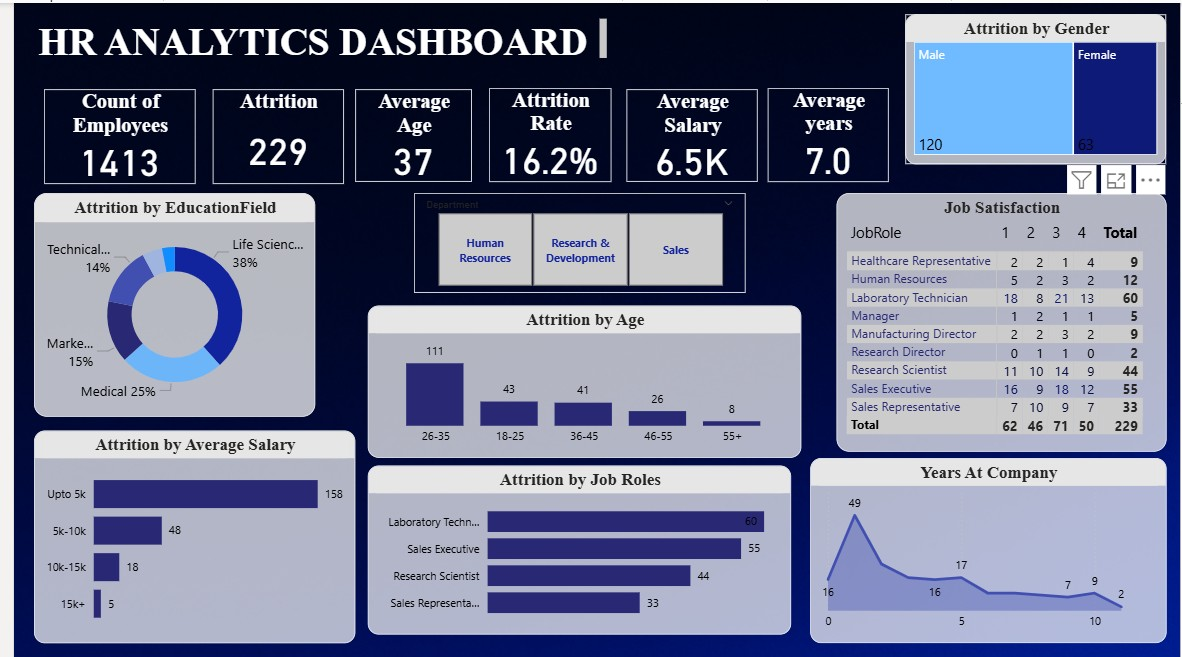

This screenshot's page, from the dashboard's own definition file:
{"tool":"powerbi","page":{"name":"Page 1","canvas":[1280,720],"ordinal":0},"visuals":[{"type":"card","title":"Count of Employees","fields":{"Values":["CountNonNull(HR_Analytics (1).EmpID)"]},"box":[32.9,94.7,166,104.3],"z":0},{"type":"card","title":"Attrition","fields":{"Values":["Sum(HR_Analytics (1).AttritionCount)"]},"box":[218.2,94.7,144.1,104.3],"z":1000},{"type":"card","title":"Average Salary ","fields":{"Values":["Avg(HR_Analytics (1).MonthlyIncome)"]},"box":[672.4,94.7,144.1,101.5],"z":2000},{"type":"card","title":"Average Age ","fields":{"Values":["Avg(HR_Analytics (1).Age)"]},"box":[374.6,94.7,127.6,101.5],"z":3000},{"type":"card","title":"Average years ","fields":{"Values":["Avg(HR_Analytics (1).YearsAtCompany)"]},"box":[827.4,93.3,133.1,102.9],"z":4000},{"type":"card","title":"Attrition Rate","fields":{"Values":["HRAnalytics.AttritionRate"]},"box":[521.4,93.3,134.5,102.9],"z":5000},{"type":"donutChart","title":" Attrition by EducationField","fields":{"Category":["HRAnalytics.EducationField"],"Y":["Sum(HRAnalytics.AttritionCount)"]},"box":[588.7,223.7,290.9,220.9],"z":6000},{"type":"columnChart","title":" Attrition by Age","fields":{"Category":["HRAnalytics.AgeGroup"],"Y":["Sum(HRAnalytics.AttritionCount)"]},"box":[259.3,223.7,318.4,220.9],"z":7000},{"type":"pivotTable","title":"Job Satisfaction","fields":{"Rows":["HRAnalytics.JobRole"],"Columns":["HRAnalytics.JobSatisfaction"],"Values":["Sum(HRAnalytics.AttritionCount)"]},"box":[904.3,209.9,360.9,249.7],"z":8000},{"type":"clusteredBarChart","title":" Attrition by Job Roles","fields":{"Category":["HRAnalytics.JobRole"],"Y":["Sum(HRAnalytics.AttritionCount)"]},"box":[338.9,478.9,333.4,215.4],"z":9000},{"type":"clusteredBarChart","title":" Attrition by Average Salary","fields":{"Category":["HRAnalytics.SalarySlab"],"Y":["Sum(HRAnalytics.AttritionCount)"]},"box":[22,478.9,299.1,215.4],"z":10000},{"type":"areaChart","title":" Years At Company","fields":{"Category":["HRAnalytics.YearsAtCompany"],"Y":["Sum(HRAnalytics.AttritionCount)"]},"box":[12.3,223.7,236,215.4],"z":11000},{"type":"treemap","title":" Attrition by Gender","fields":{"Group":["HRAnalytics.Gender"],"Values":["Sum(HRAnalytics.AttritionCount)"]},"box":[978.4,12.3,286.8,164.7],"z":12000},{"type":"textbox","box":[22,12.3,634,56.3],"z":14000},{"type":"slicer","fields":{"Values":["HRAnalytics.Department"]},"box":[676.5,477.5,236,109.8],"z":14001},{"type":"textbox","box":[682,602.4,226.4,61.7],"z":14002},{"type":"textbox","box":[922.1,478.9,343.1,194.9],"z":14003}]}

Visuals, with their boxes in screenshot pixels (x1, y1, x2, y2), scaled from the page's 1280x720 canvas onto the 1182x657 screenshot:
"Count of Employees" card: detection(30, 86, 184, 182)
"Attrition" card: detection(201, 86, 335, 182)
"Average Salary " card: detection(621, 86, 754, 179)
"Average Age " card: detection(346, 86, 464, 179)
"Average years " card: detection(764, 85, 887, 179)
"Attrition Rate" card: detection(481, 85, 606, 179)
" Attrition by EducationField" donutChart: detection(544, 204, 812, 406)
" Attrition by Age" columnChart: detection(239, 204, 533, 406)
"Job Satisfaction" pivotTable: detection(835, 192, 1168, 419)
" Attrition by Job Roles" clusteredBarChart: detection(313, 437, 621, 634)
" Attrition by Average Salary" clusteredBarChart: detection(20, 437, 297, 634)
" Years At Company" areaChart: detection(11, 204, 229, 401)
" Attrition by Gender" treemap: detection(903, 11, 1168, 162)
textbox: detection(20, 11, 606, 63)
slicer - HRAnalytics.Department: detection(625, 436, 843, 536)
textbox: detection(630, 550, 839, 606)
textbox: detection(852, 437, 1168, 615)
